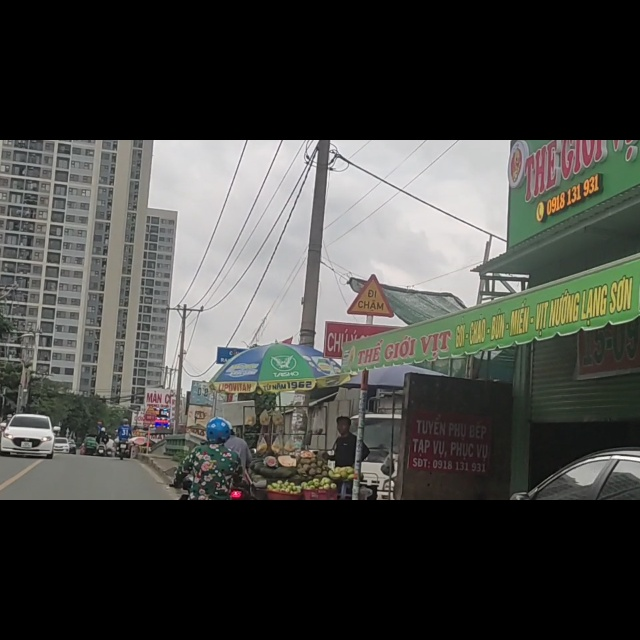bien_nguy_hiem: (347, 239, 392, 314)
